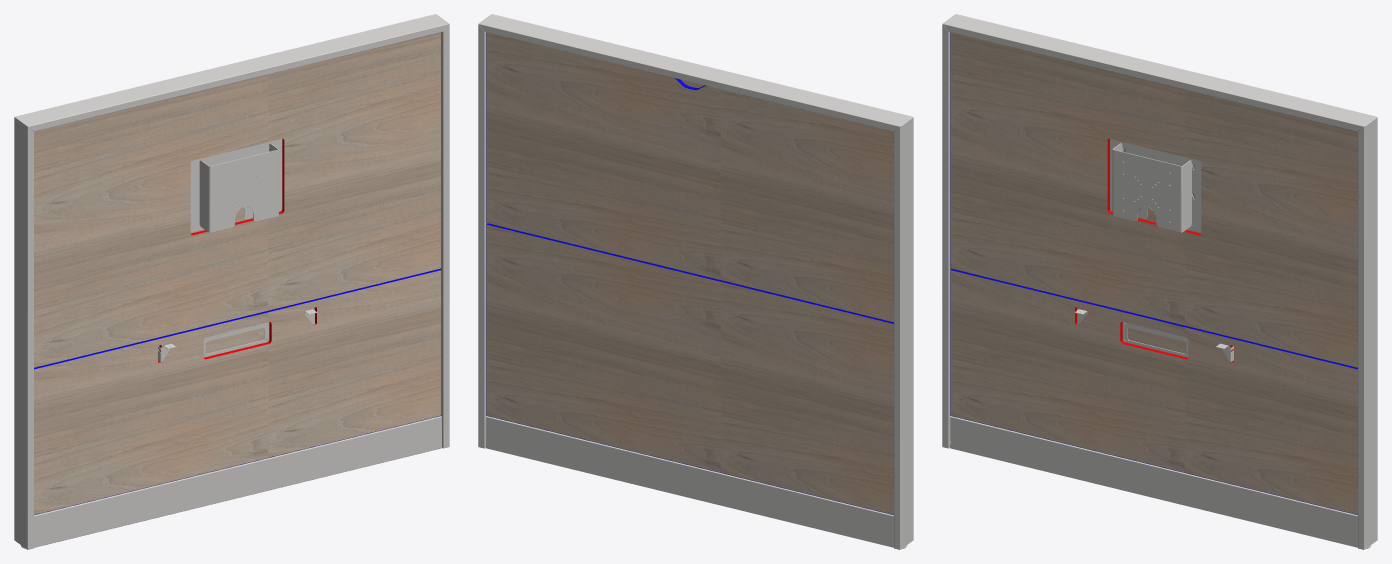
The picture shows the model from 3 angles, left to right: view 1: azimuth 30°, elevation 25°; view 2: azimuth 150°, elevation 25°; view 3: azimuth 330°, elevation 25°; orthographic projection.
Visible parts, largest first — view 1: 6 (×2), 5, 16, 23, 13, 19, 18, 24, 7, 8, 22; view 2: 8 (×2), 7, 17, 23, 13, 18, 5; view 3: 6 (×2), 5, 16, 23, 18, 19, 13, 24, 7, 8, 22.
Boxes of the visible parts, bbox=[...] form: 6 (×2): bbox=[32, 32, 441, 367]; 5: bbox=[34, 270, 441, 514]; 16: bbox=[34, 416, 441, 547]; 23: bbox=[14, 14, 449, 134]; 13: bbox=[14, 125, 33, 549]; 19: bbox=[199, 143, 278, 232]; 18: bbox=[441, 32, 449, 448]; 24: bbox=[190, 139, 282, 232]; 7: bbox=[34, 269, 441, 515]; 8: bbox=[158, 307, 314, 354]; 22: bbox=[203, 322, 269, 357]; 8 (×2): bbox=[486, 223, 893, 515]; 7: bbox=[486, 32, 893, 322]; 17: bbox=[486, 416, 893, 547]; 23: bbox=[478, 14, 913, 134]; 13: bbox=[894, 125, 913, 549]; 18: bbox=[478, 32, 486, 448]; 5: bbox=[486, 32, 895, 322]; 6 (×2): bbox=[950, 32, 1359, 367]; 5: bbox=[950, 270, 1357, 514]; 16: bbox=[950, 416, 1357, 547]; 23: bbox=[942, 14, 1377, 134]; 18: bbox=[1358, 125, 1377, 549]; 19: bbox=[1112, 143, 1192, 232]; 13: bbox=[942, 32, 950, 448]; 24: bbox=[1110, 139, 1201, 232]; 7: bbox=[950, 269, 1357, 515]; 8: bbox=[1077, 307, 1233, 354]; 22: bbox=[1122, 322, 1188, 357].
Size of the model in its own units: 1.8 by 1.74 by 0.1443.
5 materials, 1 textured.
